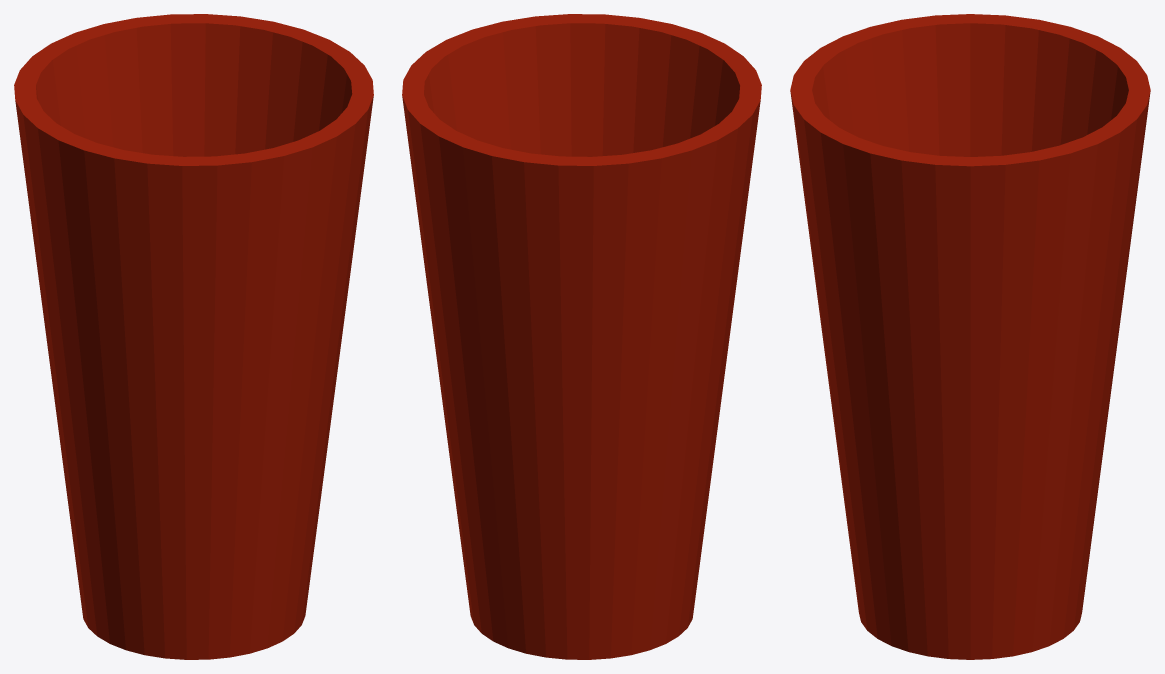
The model's file is orange_cup.obj.
3 views of the same model, side by side, from view 1: azimuth 30°, elevation 25°; view 2: azimuth 150°, elevation 25°; view 3: azimuth 270°, elevation 25° (orthographic).
Parts seen in each view (by area): view 1: orange_cup_Cylinder; view 2: orange_cup_Cylinder; view 3: orange_cup_Cylinder.
Boxes of the visible parts, left/top/right/bottom form: orange_cup_Cylinder: left=14, top=14, right=373, bottom=659; orange_cup_Cylinder: left=402, top=14, right=761, bottom=659; orange_cup_Cylinder: left=790, top=14, right=1150, bottom=659.
Size of the model in its own units: 0.075 by 0.12 by 0.075.
